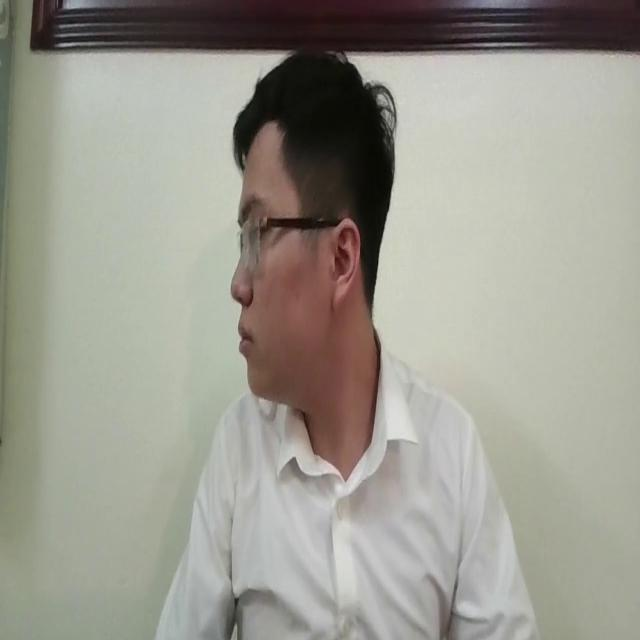student: (122, 48, 540, 640)
